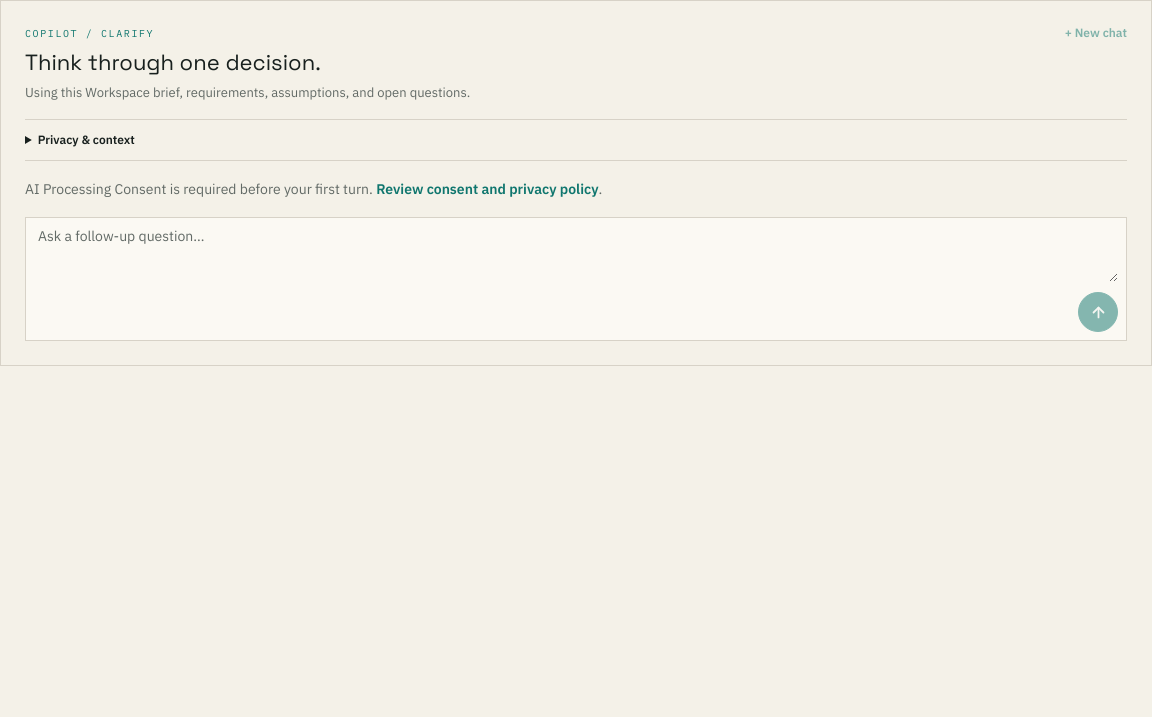
CopilotPanel › lets the user review and save Copilot guidance as a requirement
This screenshot has width=1152, height=717.
Step 1. Type "How should retries behave?" into the text box named "Ask Copilot" → point(576, 254), box [34,226,1118,282]
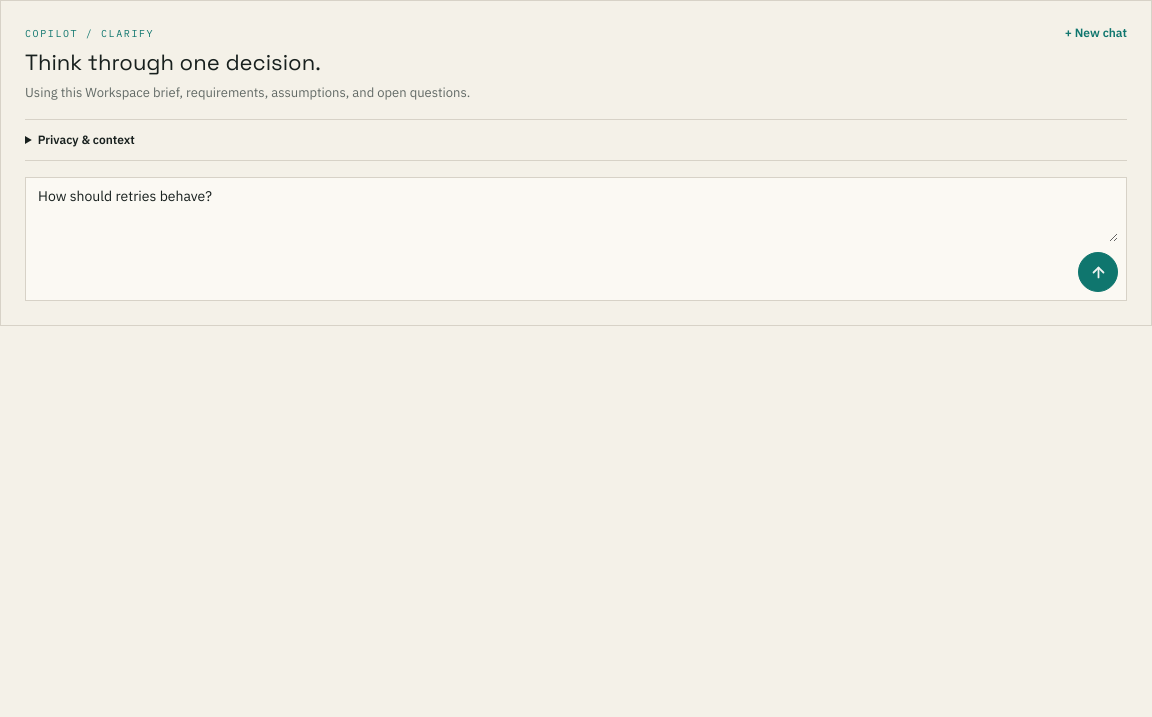
Step 2. Click the button named "Send message" → point(1098, 272), box [1078,252,1118,292]
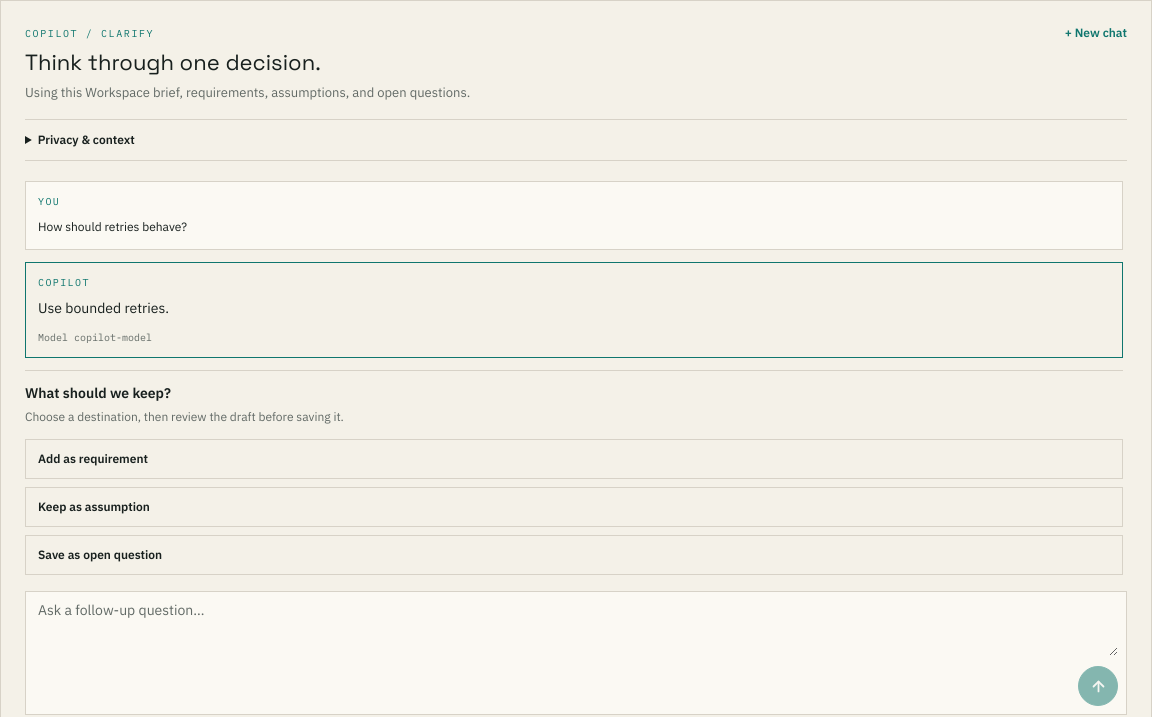
expect the text "Use bounded retries." is shown: met, box [38,299,169,317]
Step 3. Click the button "Add as requirement" → point(93, 459), box [25,439,1123,479]
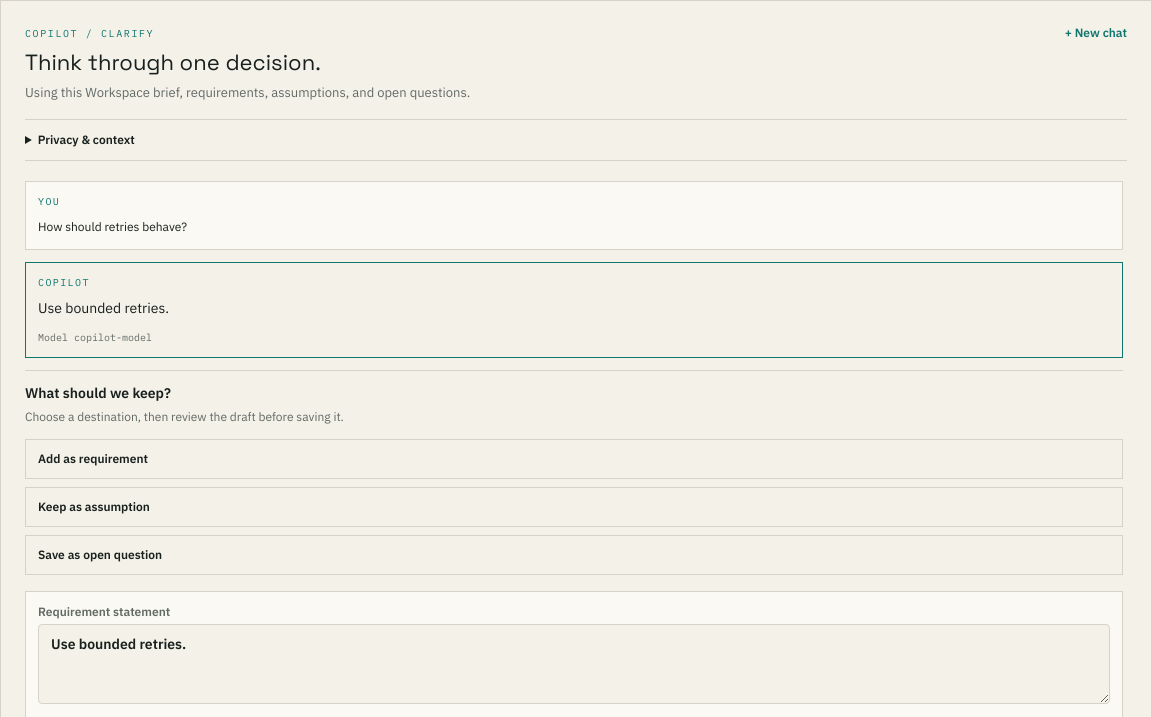
Step 4. Replace the text in the text box labelled "Requirement statement" with "The system retries temporary provider failures with a bounded backoff." → point(574, 664), box [38,624,1110,704]
(page scrolled)
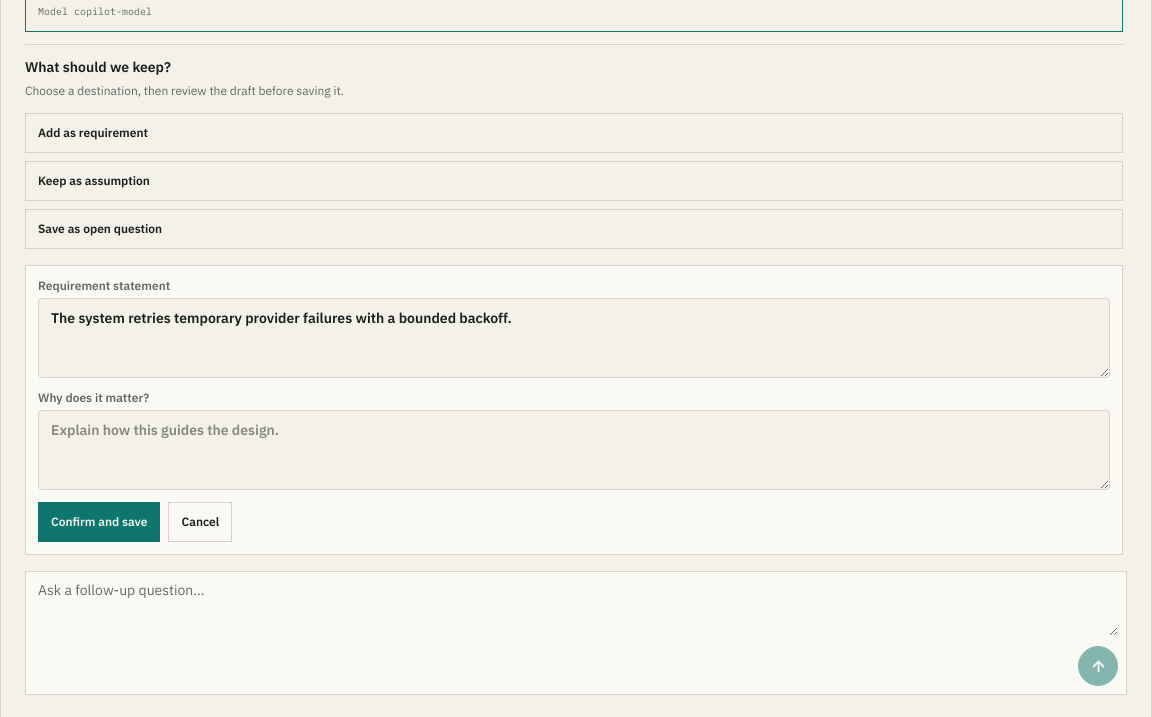
Step 5. Type "It improves delivery without overwhelming providers." into the text box labelled "Why does it matter?" → point(574, 450), box [38,410,1110,490]
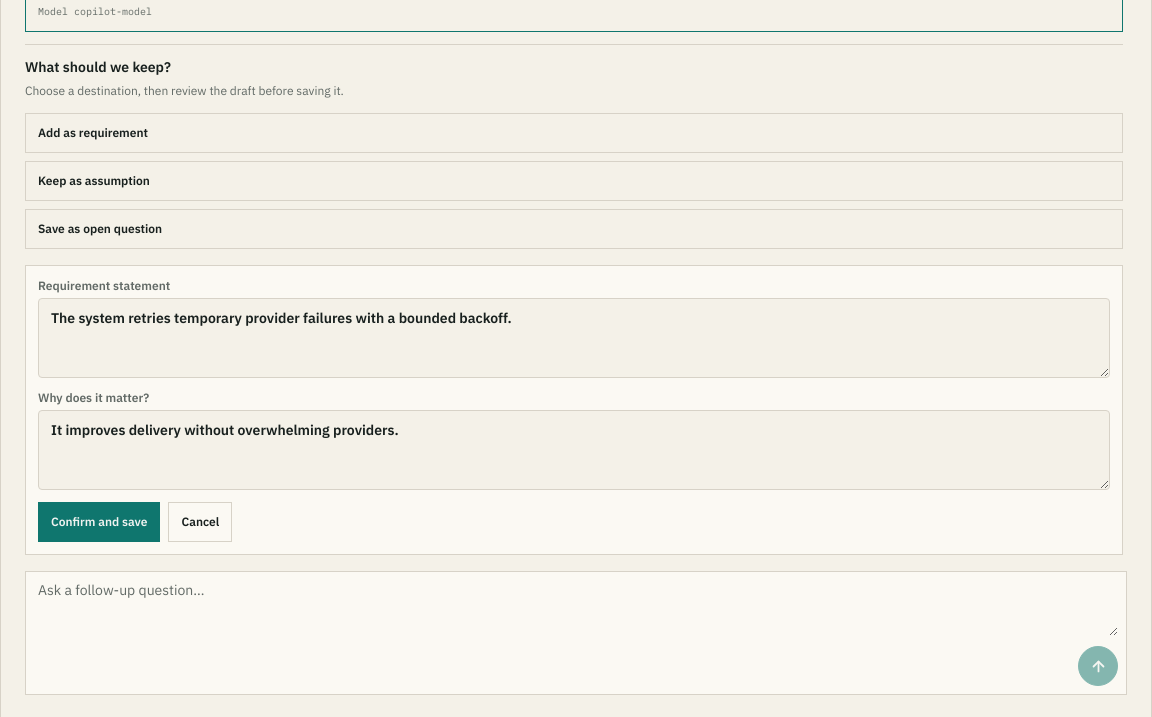
Step 6. Click the button "Confirm and save" → point(99, 522), box [38,502,160,542]
(page scrolled)
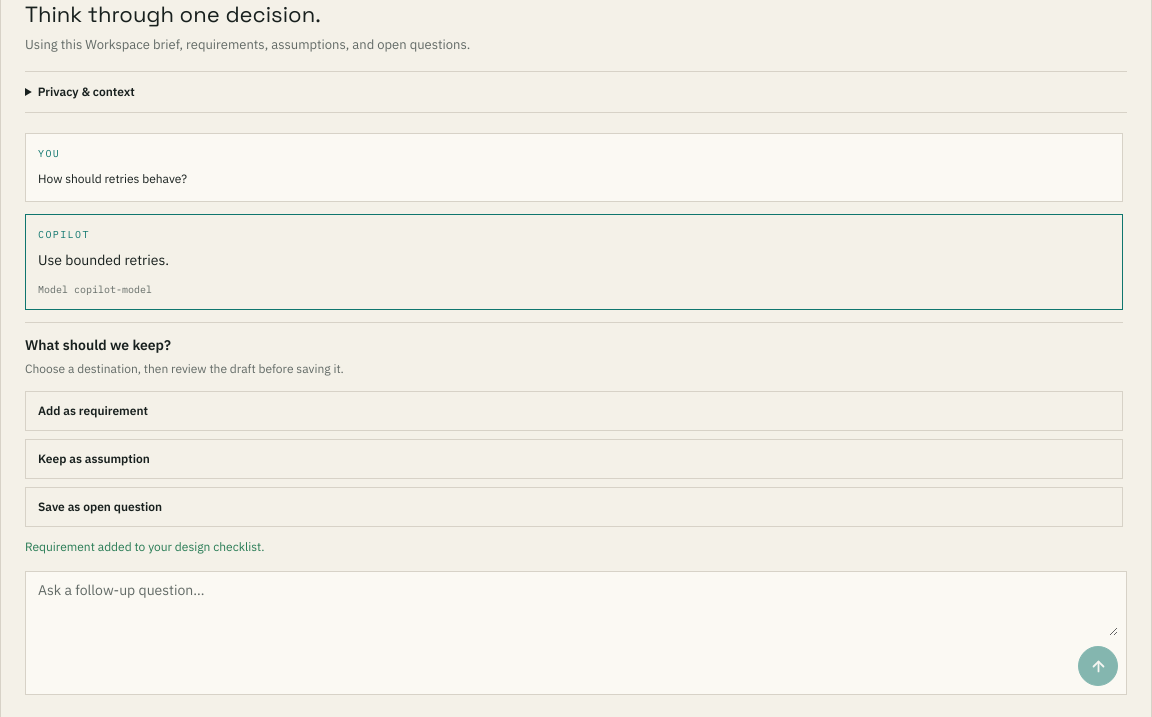
expect the text "Requirement added to your design checklist." is shown: met, box [25,539,264,554]
